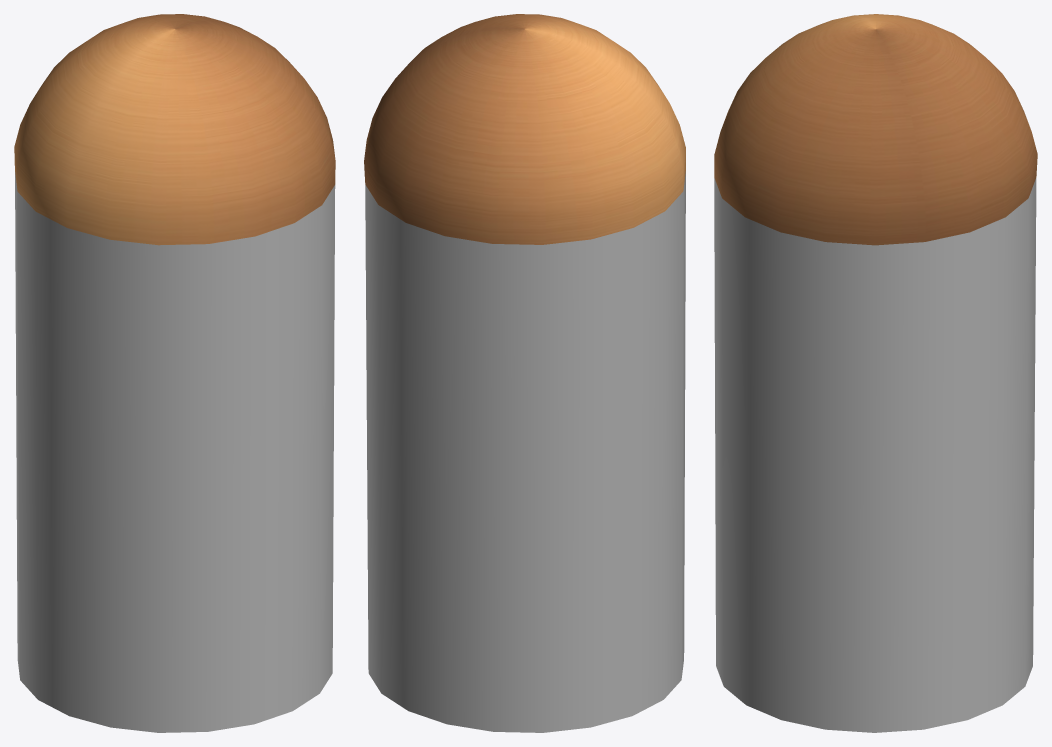
File: Silo.fbx
The picture shows the model from 3 angles, left to right: view 1: azimuth 30°, elevation 25°; view 2: azimuth 150°, elevation 25°; view 3: azimuth 270°, elevation 25°; orthographic projection.
Parts seen in each view (by area): view 1: pCylinder4; view 2: pCylinder4; view 3: pCylinder4.
Boxes of the visible parts, box(x1,y1,x2,y2) form: pCylinder4: box(14, 14, 335, 732); pCylinder4: box(364, 14, 685, 732); pCylinder4: box(714, 14, 1037, 732).
Bounding box in the file's own units: 5.19 × 11.29 × 5.2.
